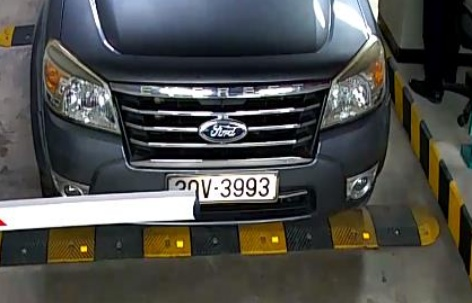plate: (163, 170, 281, 206)
